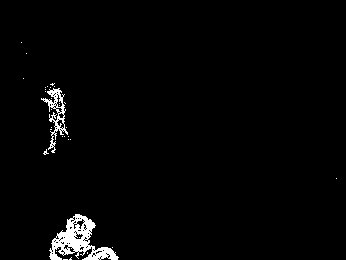person: (39, 80, 72, 157)
